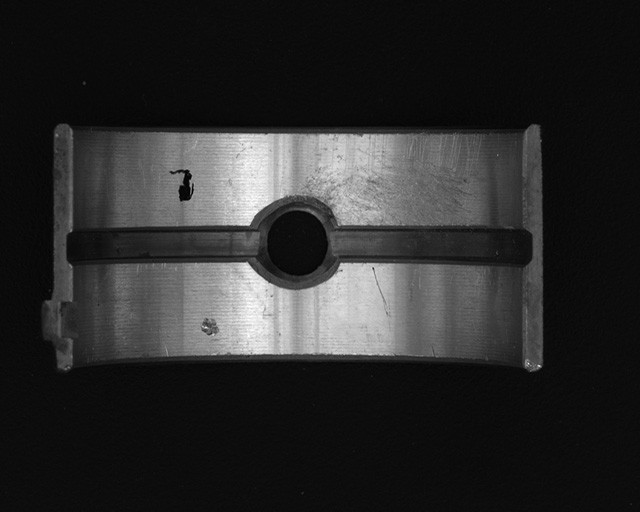blot: (169, 168, 195, 203)
bruise: (199, 317, 220, 336)
gap: (329, 223, 532, 269), (68, 225, 262, 265)
hole: (255, 196, 336, 286)
nick: (371, 265, 390, 316)
scratch: (301, 132, 494, 224)
